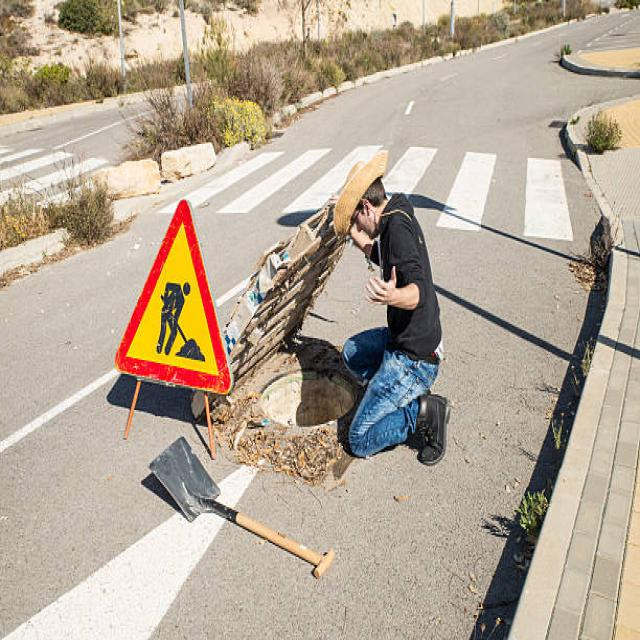road_work: (114, 202, 232, 396)
